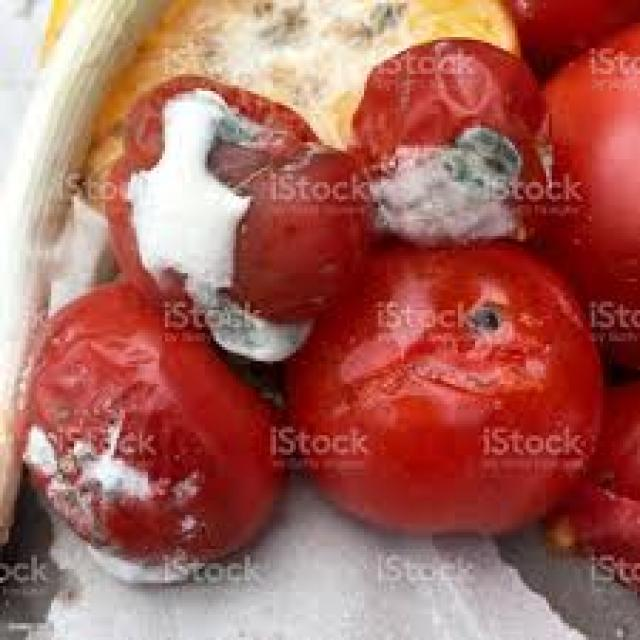organic waste: (40, 0, 518, 219), (279, 230, 597, 535), (14, 276, 290, 589), (105, 71, 381, 356), (347, 34, 552, 248), (518, 14, 637, 364), (535, 364, 637, 583), (503, 0, 631, 68)
